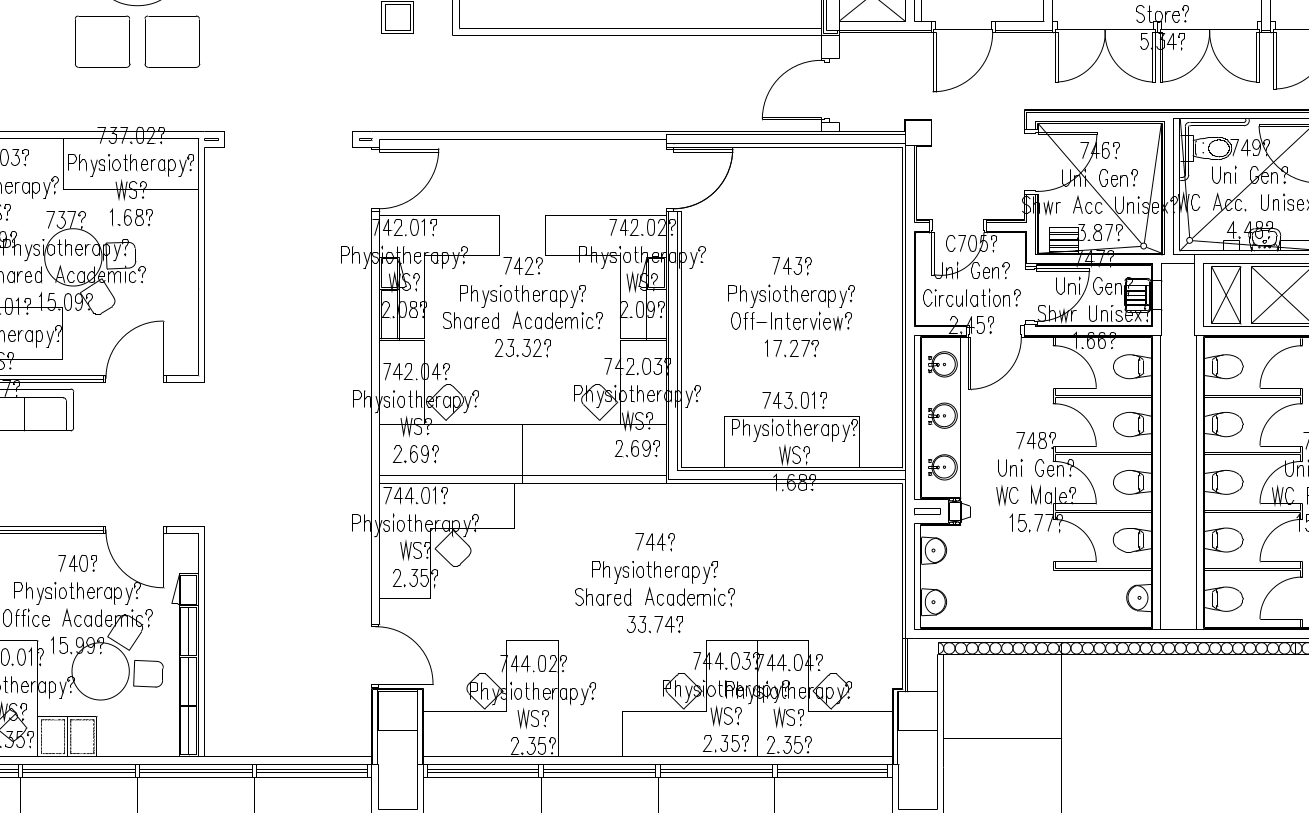door: (1050, 28, 1157, 93), (1156, 28, 1263, 93), (1031, 127, 1101, 195), (371, 620, 441, 688), (962, 327, 1024, 397), (104, 527, 169, 593), (102, 317, 167, 383), (379, 143, 444, 209), (675, 148, 740, 214), (754, 58, 819, 124), (929, 29, 994, 95), (1253, 122, 1309, 190), (1053, 339, 1102, 391), (1055, 399, 1104, 451), (1053, 454, 1102, 506), (1052, 511, 1101, 563), (1256, 339, 1305, 391), (1257, 396, 1306, 448), (1256, 454, 1305, 506), (1255, 513, 1304, 565), (1255, 574, 1304, 626)
